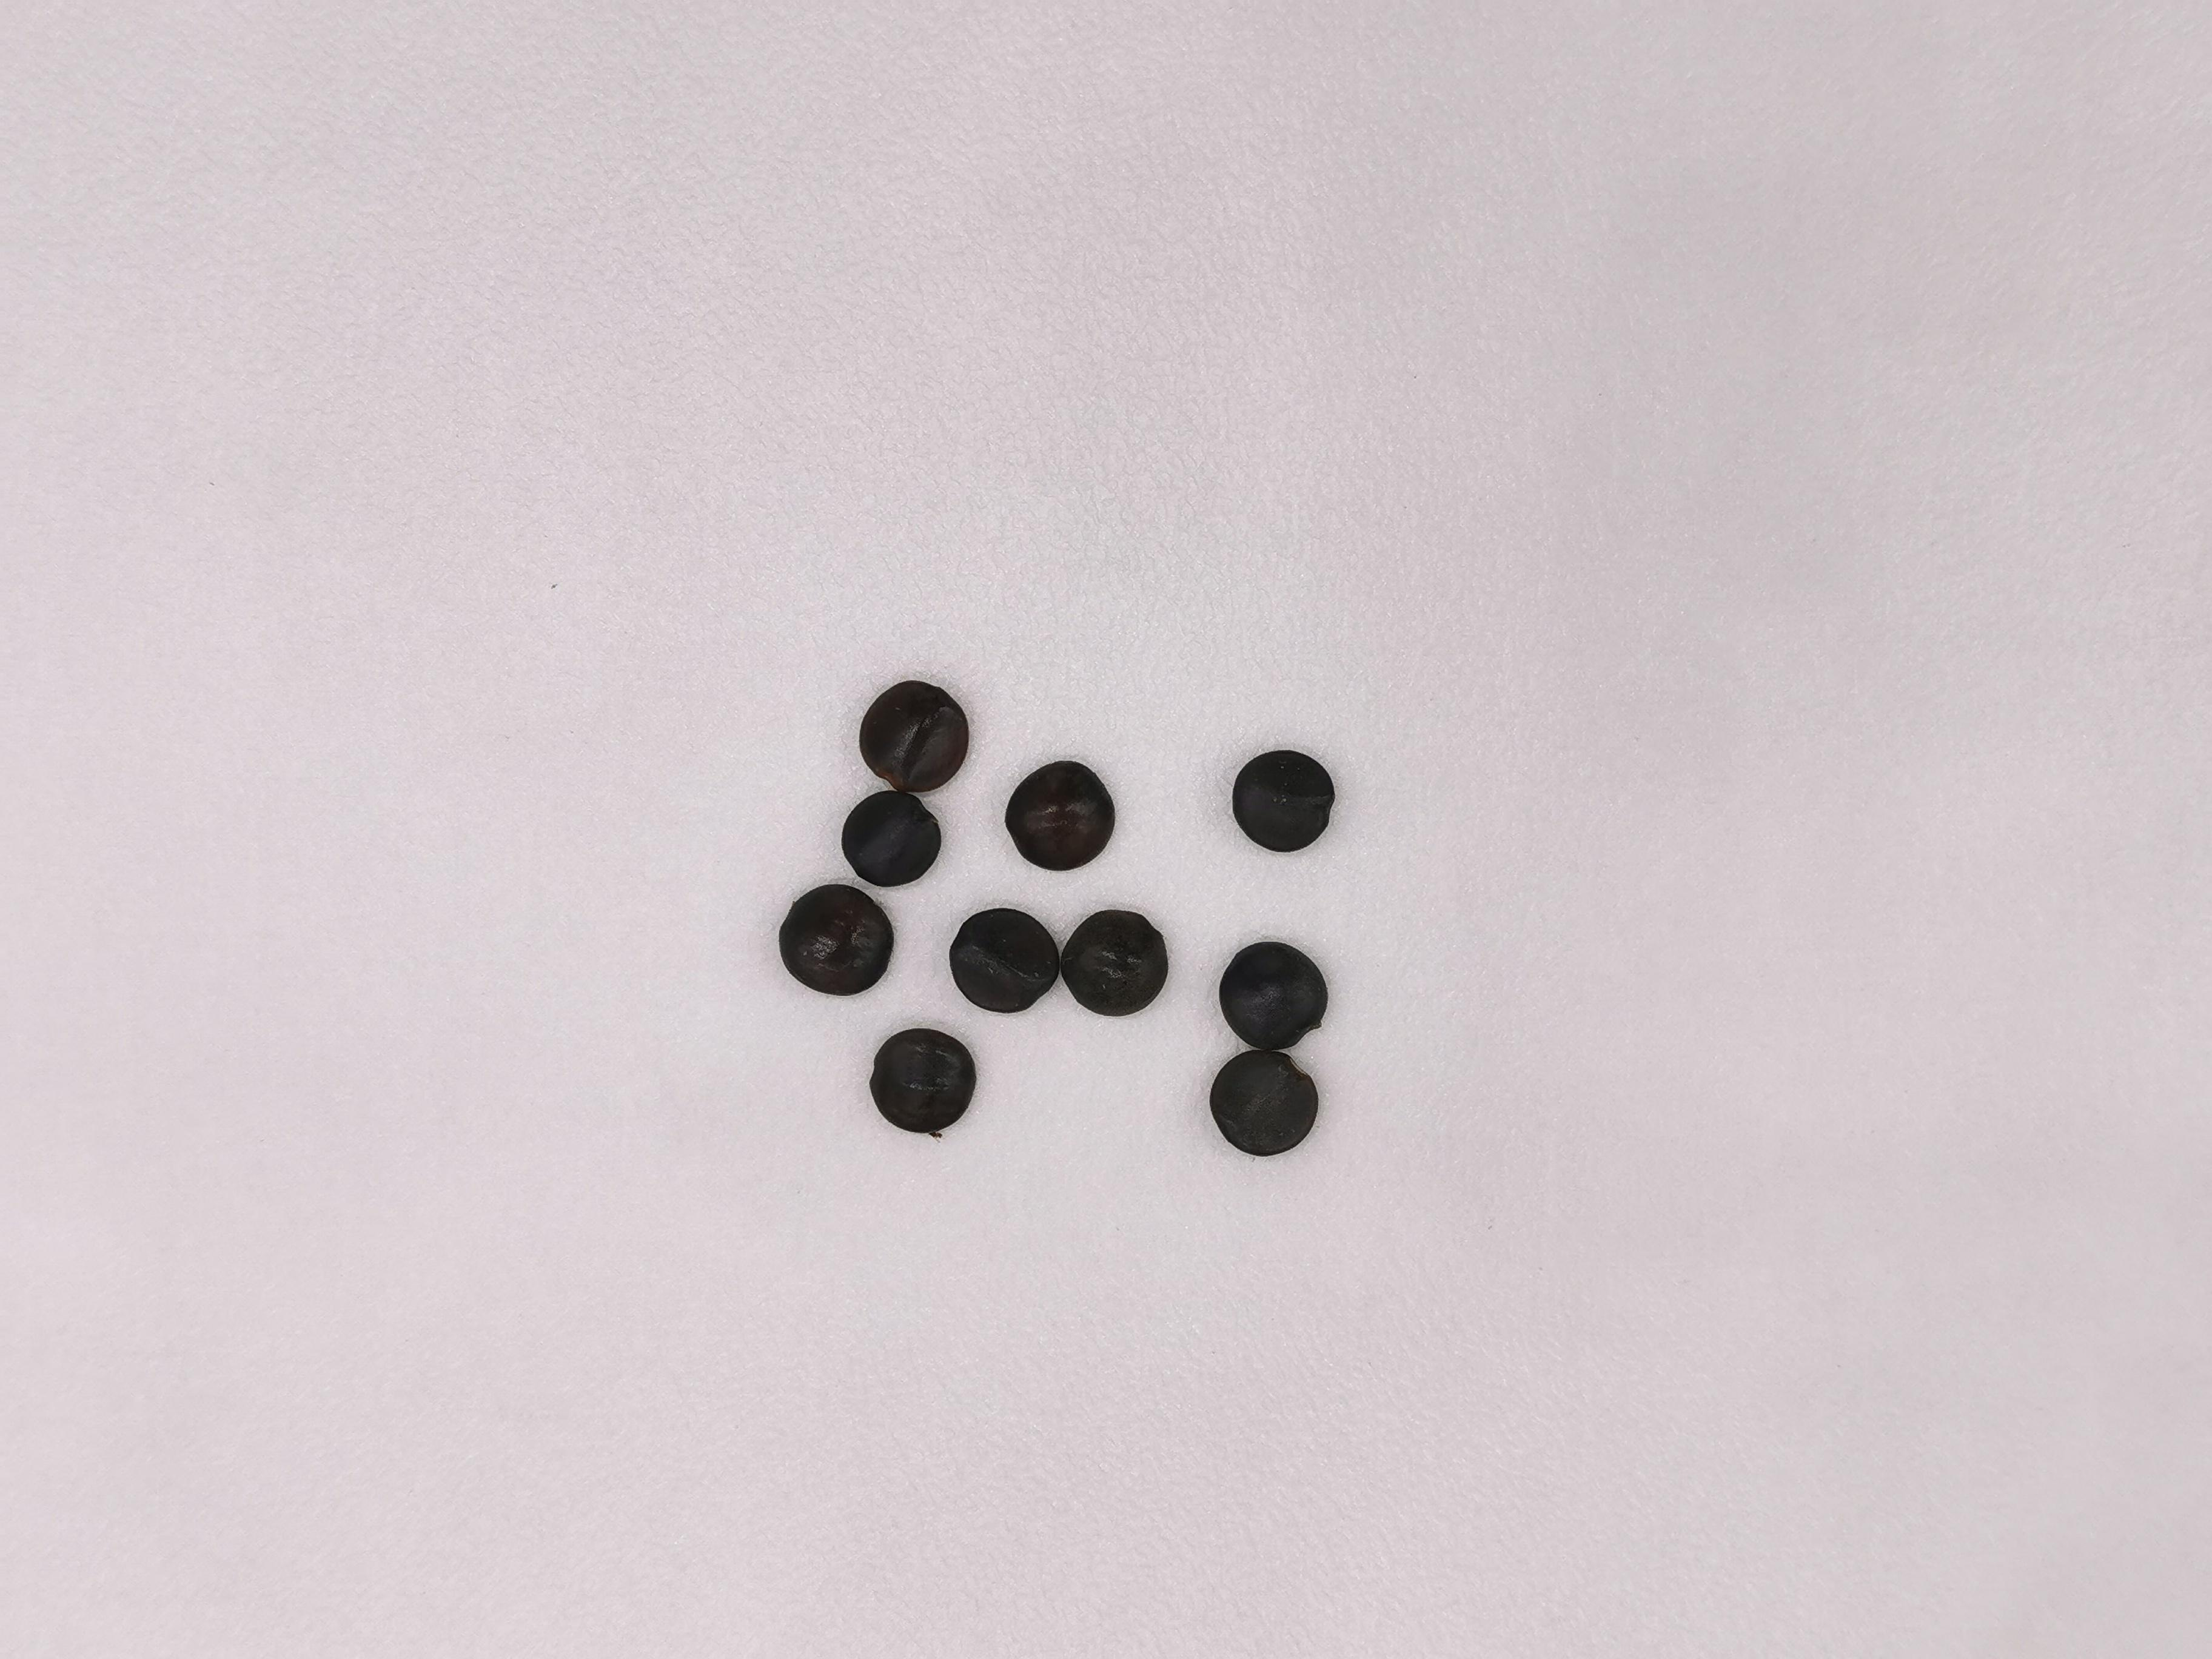seed: (777, 878, 897, 1000), (1205, 1046, 1325, 1157), (853, 678, 974, 789), (1003, 758, 1116, 875), (1214, 939, 1329, 1053), (948, 903, 1064, 1012), (864, 1023, 975, 1133), (1057, 904, 1165, 1018), (1230, 746, 1341, 854), (840, 789, 941, 890)
